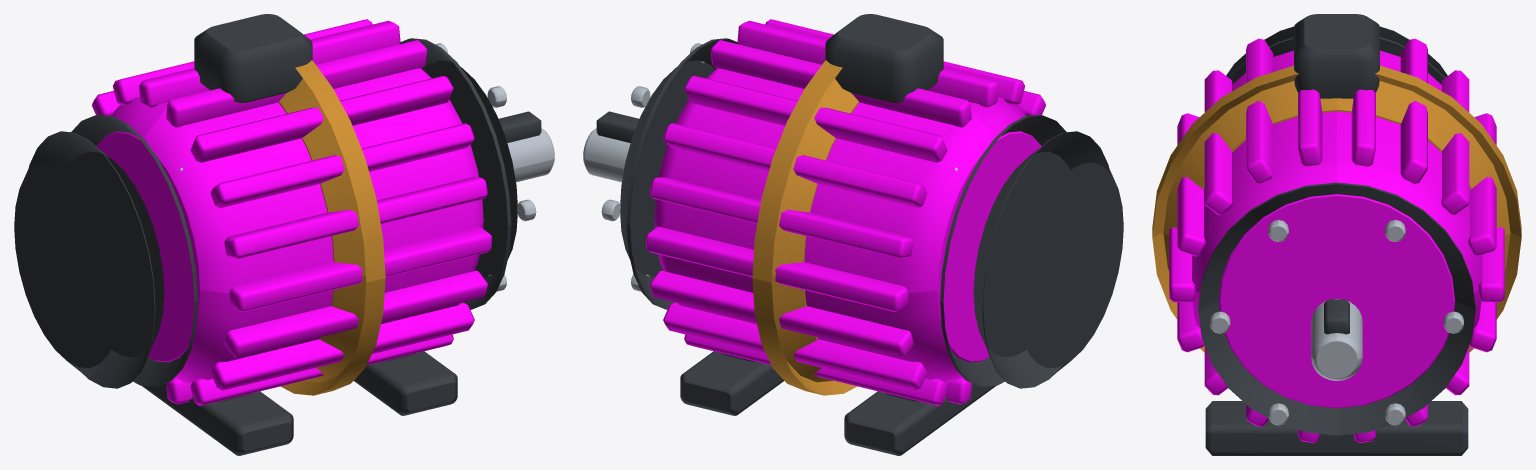
Rendered from objet_moteur_renforce.glb.
3 views of the same model, side by side, from view 1: azimuth 30°, elevation 25°; view 2: azimuth 150°, elevation 25°; view 3: azimuth 270°, elevation 25° (orthographic).
Parts seen in each view (by area): view 1: moteur_teinte.004, moteur_teinte_sombre.004, moteur_orange.002, moteur_gris_clair.004; view 2: moteur_teinte.004, moteur_teinte_sombre.004, moteur_orange.002, moteur_gris_clair.004; view 3: moteur_teinte.004, moteur_teinte_sombre.004, moteur_orange.002, moteur_gris_clair.004.
Boxes of the visible parts, x1,y1,x2,y2 form: moteur_teinte.004: (91,19,491,405); moteur_teinte_sombre.004: (14,14,541,455); moteur_orange.002: (279,60,385,395); moteur_gris_clair.004: (180,43,554,291); moteur_teinte.004: (646,19,1046,405); moteur_teinte_sombre.004: (596,14,1123,455); moteur_orange.002: (752,60,858,395); moteur_gris_clair.004: (583,43,957,291); moteur_teinte.004: (1169,38,1504,443); moteur_teinte_sombre.004: (1198,14,1475,455); moteur_orange.002: (1152,65,1521,352); moteur_gris_clair.004: (1210,220,1463,425).
Size of the model in its own units: 0.32 by 0.23 by 0.215.
